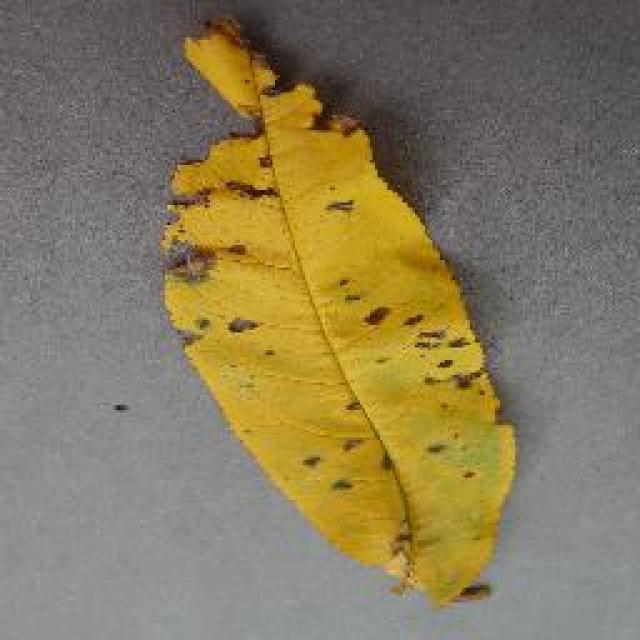Peach_Bacterial_Spot: (205, 81, 458, 466)
